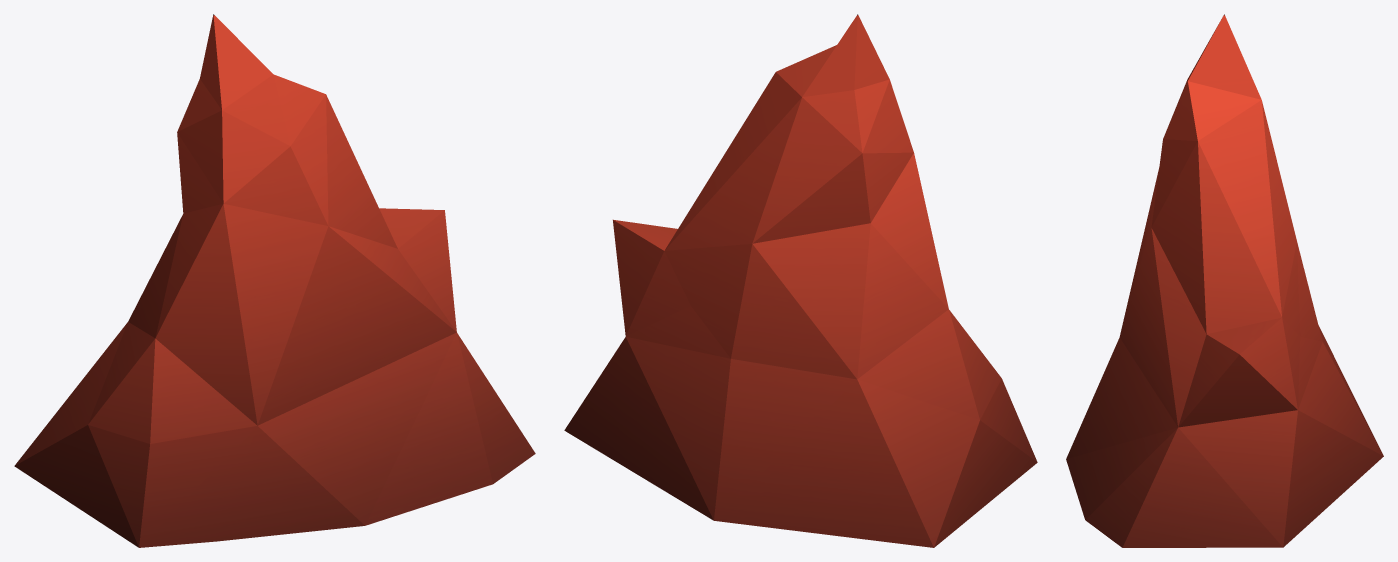
Rendered from Spiky_Rock_2.fbx.
3 views of the same model, side by side, from view 1: azimuth 30°, elevation 25°; view 2: azimuth 150°, elevation 25°; view 3: azimuth 270°, elevation 25° (orthographic). The views are drawn at different scales.
Visible parts, largest first — view 1: Spiky_Rock_2; view 2: Spiky_Rock_2; view 3: Spiky_Rock_2.
Boxes of the visible parts, x1=… form: Spiky_Rock_2: x1=14, y1=14, x2=535, y2=547; Spiky_Rock_2: x1=564, y1=14, x2=1037, y2=547; Spiky_Rock_2: x1=1066, y1=14, x2=1383, y2=547.
Size of the model in its own units: 394 by 432 by 298.
Materials: 1 (1 with a texture image).
